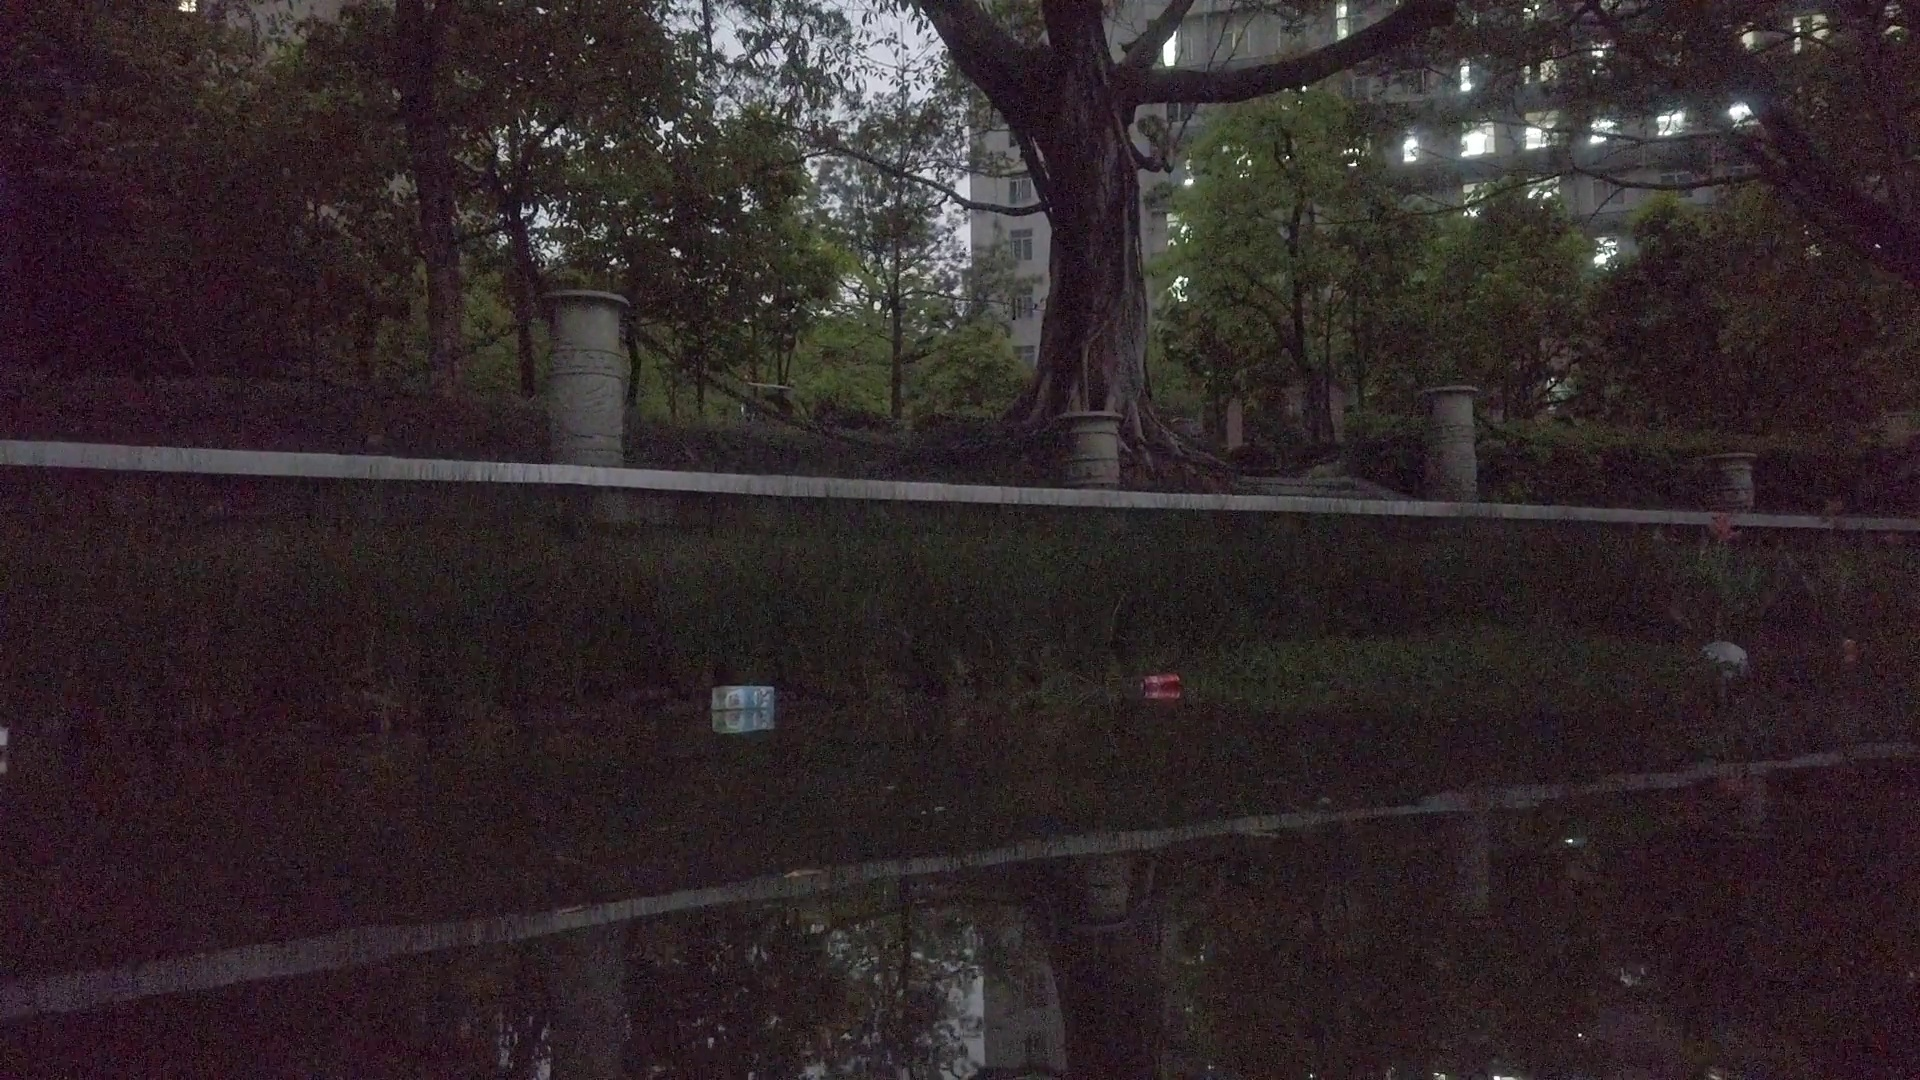bottle: (1135, 675, 1184, 692), (1836, 634, 1863, 661)
carton: (713, 687, 778, 711)
plastic: (1704, 640, 1747, 665)
